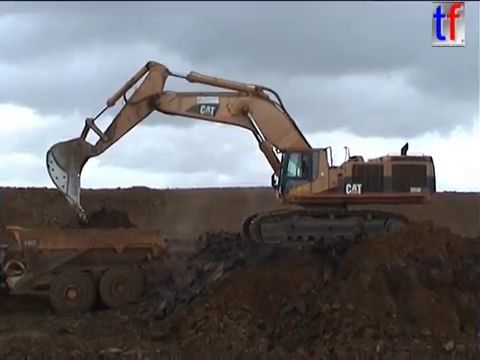excavator: (43, 58, 439, 253)
truck: (1, 222, 169, 316)
